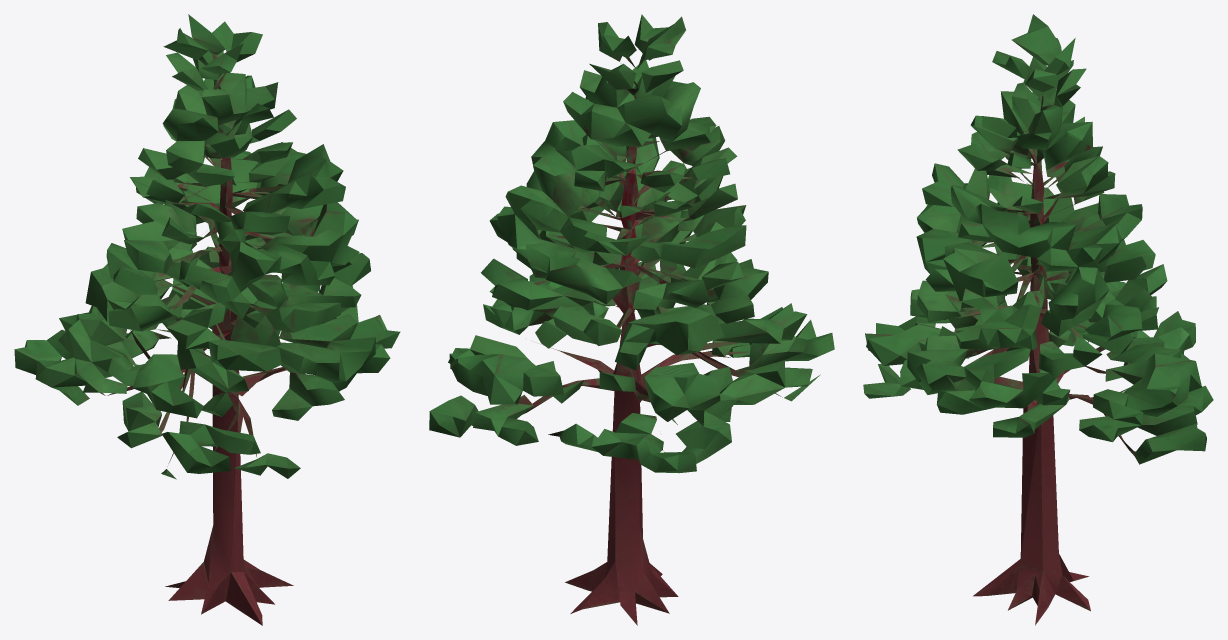
The picture shows the model from 3 angles, left to right: view 1: azimuth 30°, elevation 25°; view 2: azimuth 150°, elevation 25°; view 3: azimuth 270°, elevation 25°; orthographic projection. The views are drawn at different scales.
Visible parts, largest first — view 1: pine; view 2: pine; view 3: pine.
Part boxes in pixels (bbox=[...]): pine: bbox=[14, 14, 400, 625]; pine: bbox=[429, 14, 834, 625]; pine: bbox=[863, 14, 1213, 625].
Size of the model in its own units: 0.987 by 1.87 by 1.06.
1 material, 1 textured.
